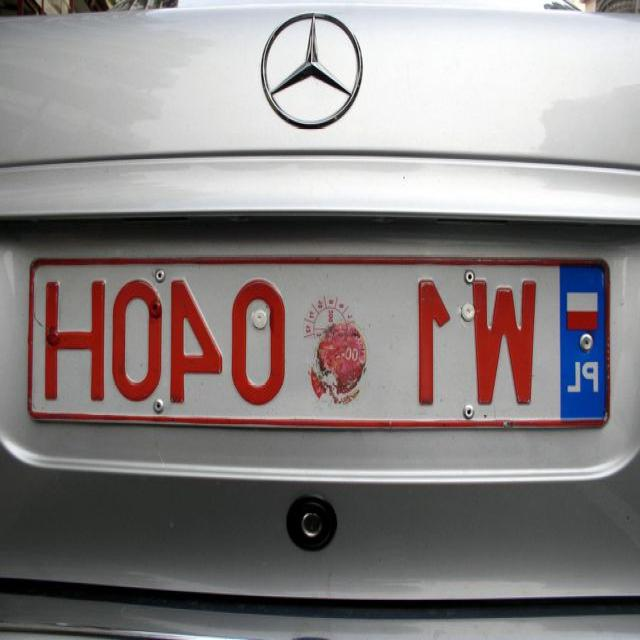pl_license_plate: (31, 260, 607, 414)
